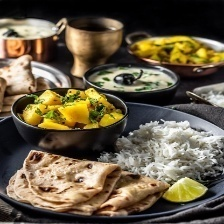rice: (113, 120, 224, 188)
